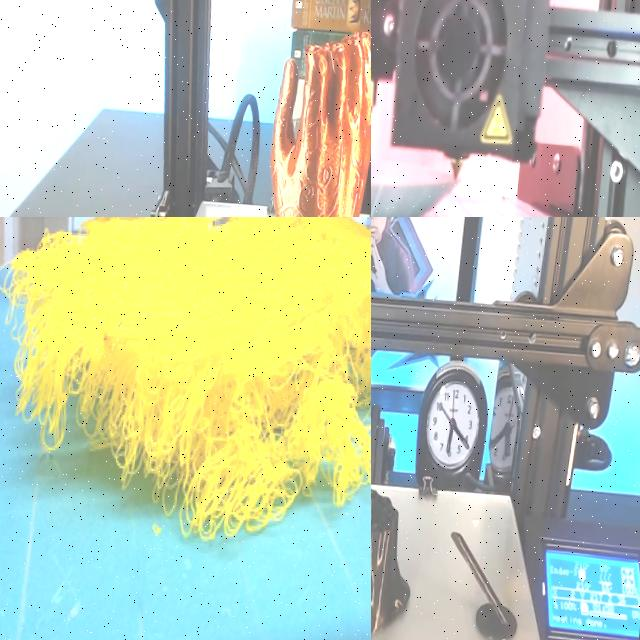spaghetti: (0, 217, 371, 539)
